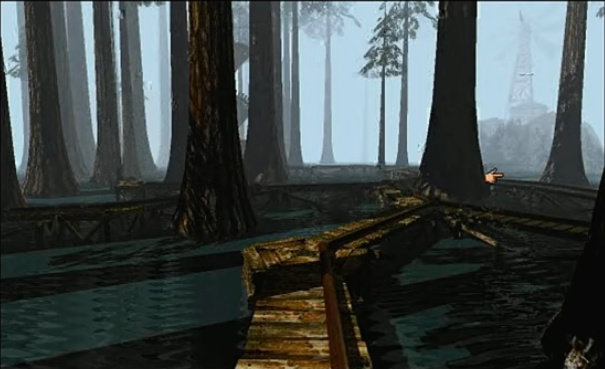Pointer: (483, 165, 505, 186)
